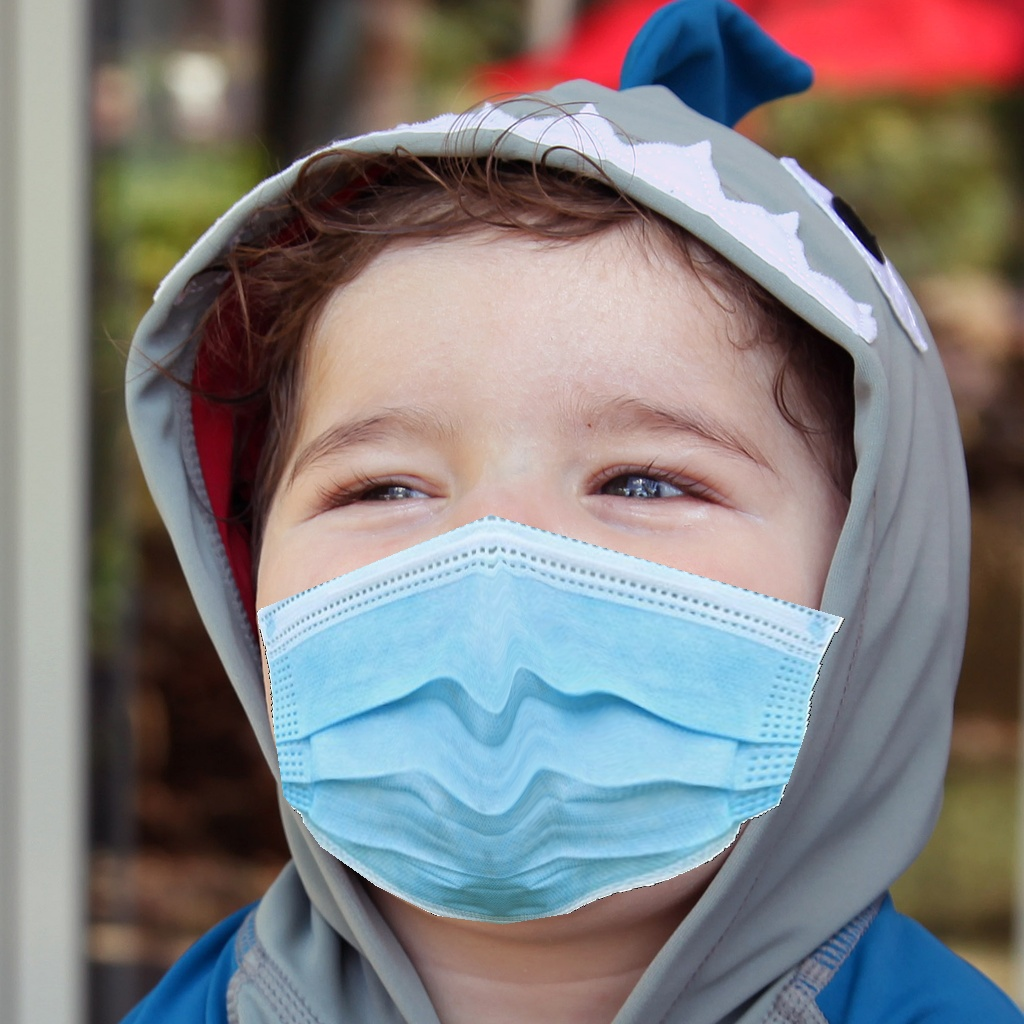with_mask: (259, 398, 813, 912)
